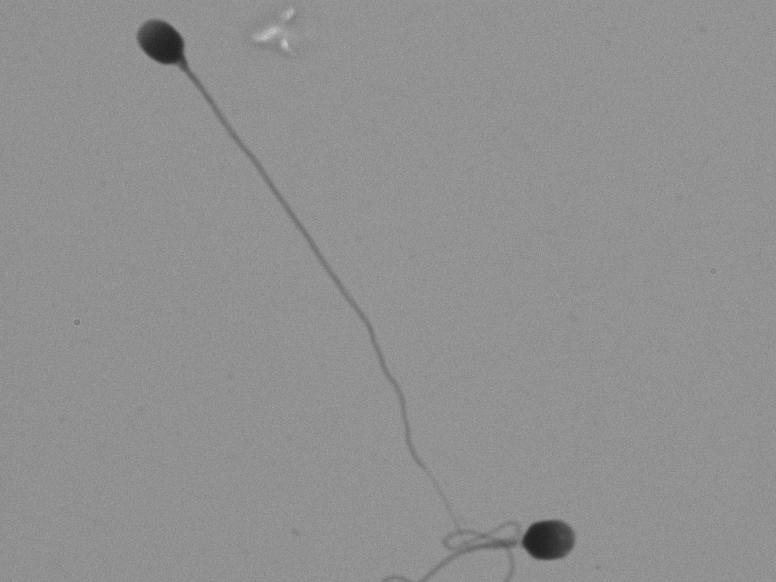Normal: (77, 11, 507, 505), (413, 490, 617, 578)
